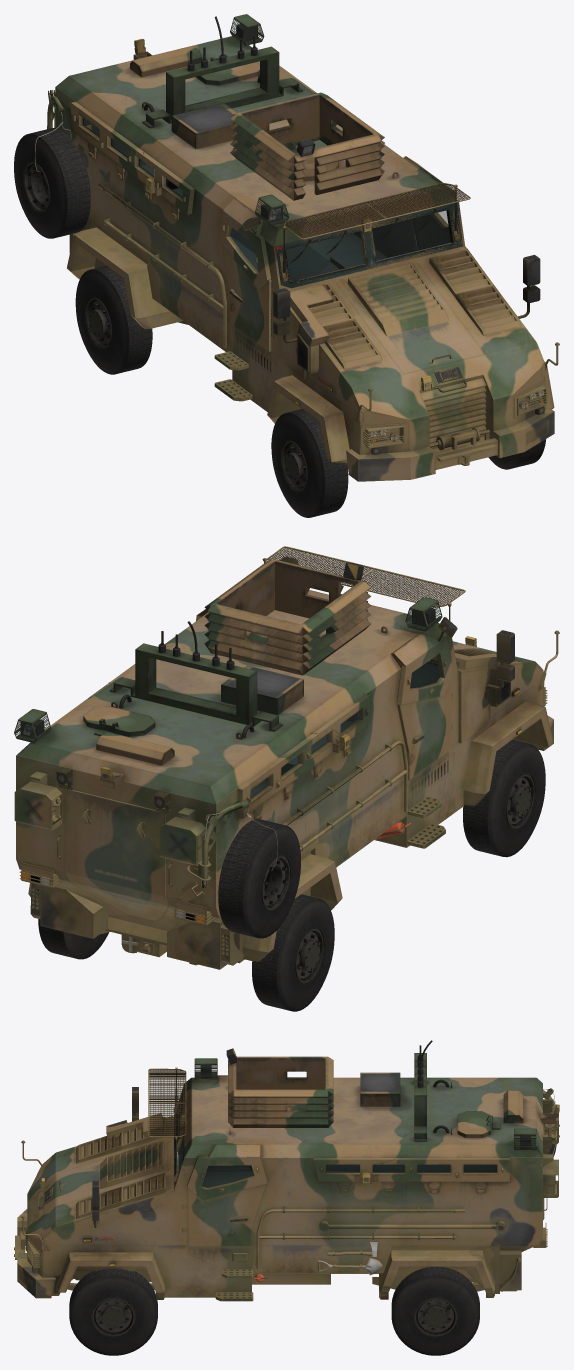
File: kirpi.glb
3 renders of one model, top to bottom at view 1: azimuth 30°, elevation 25°; view 2: azimuth 150°, elevation 25°; view 3: azimuth 270°, elevation 25°, orthographic. The views are drawn at different scales.
Visible parts, largest first — view 1: Object_5, Object_3, Object_6, Object_4, Object_2; view 2: Object_5, Object_6, Object_3, Object_2, Object_4; view 3: Object_5, Object_3, Object_6, Object_4, Object_2.
Boxes of the visible parts, x1,y1,x2,y2 form: Object_5: (35,14,559,481); Object_3: (14,128,545,517); Object_6: (71,52,553,459); Object_4: (82,117,462,336); Object_2: (81,117,451,281); Object_5: (14,546,559,969); Object_6: (21,559,553,925); Object_3: (38,740,545,1011); Object_2: (251,654,441,799); Object_4: (31,656,440,941); Object_5: (14,1040,559,1301); Object_3: (69,1145,556,1355); Object_6: (17,1048,544,1279); Object_4: (174,1086,497,1187); Object_2: (177,1104,496,1187).
Bounding box in the file's own units: 33.12 × 41.75 × 76.23.
Materials: 4 (4 with a texture image).
